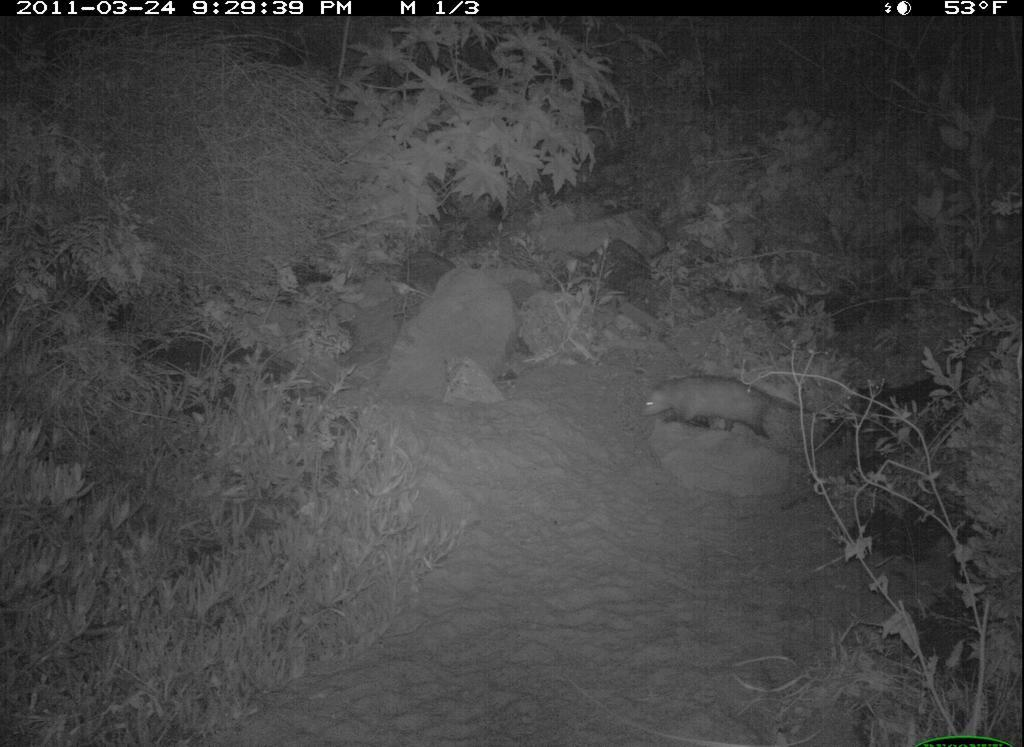opossum: (632, 359, 820, 449)
